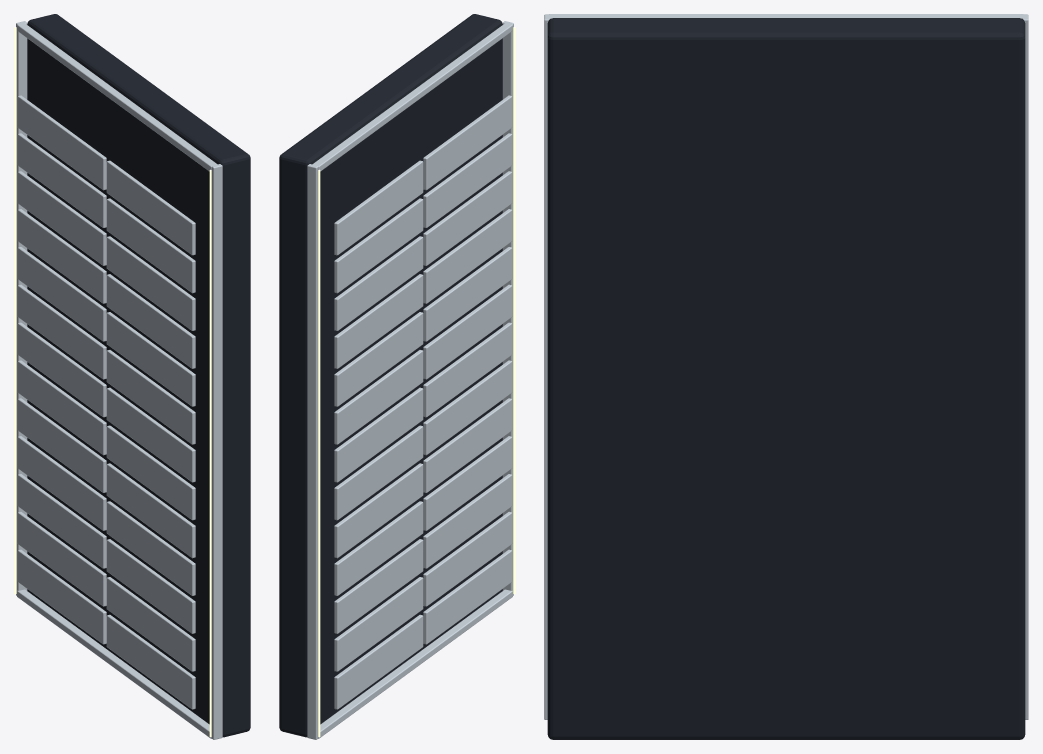
File: SM_AmountDisplay.fbx
3 views of the same model, side by side, from view 1: azimuth 30°, elevation 25°; view 2: azimuth 150°, elevation 25°; view 3: azimuth 270°, elevation 25° (orthographic). The views are drawn at different scales.
Visible parts, largest first — view 1: SM_AmountDisplay; view 2: SM_AmountDisplay; view 3: SM_AmountDisplay.
Part boxes in pixels (<box>): SM_AmountDisplay: <box>14,14,250,739</box>; SM_AmountDisplay: <box>279,14,515,739</box>; SM_AmountDisplay: <box>544,14,1028,739</box>.
Size of the model in its own units: 63.5 by 436 by 702.
